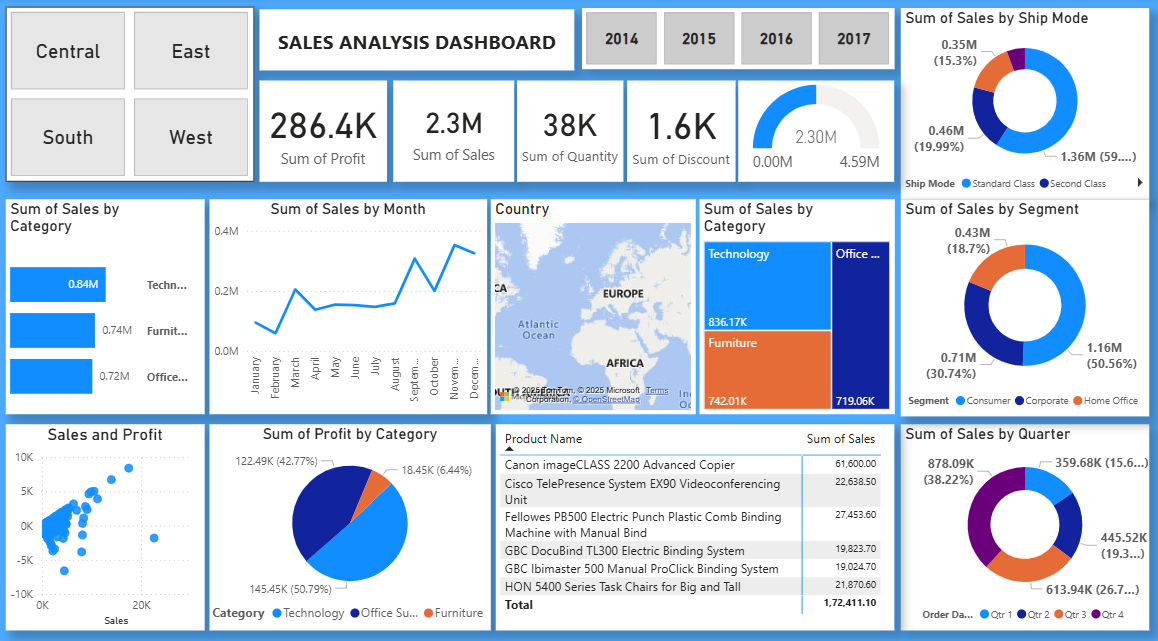

The page's visual inventory and layout, read from the dashboard file:
{"tool":"powerbi","page":{"name":"Page 1","canvas":[1280,720],"ordinal":0},"visuals":[{"type":"advancedSlicerVisual","fields":{"Values":["sample_-_superstore xls - Orders.Region"]},"box":[9.6,9.6,273.1,192.1],"z":0},{"type":"textbox","box":[288.2,12.3,345.8,67.2],"z":1000},{"type":"advancedSlicerVisual","fields":{"Values":["sample_-_superstore xls - Orders.Order Date.Variation.Date Hierarchy.Year"]},"box":[642.2,11,343.1,67.2],"z":2000},{"type":"donutChart","fields":{"Category":["sample_-_superstore xls - Orders.Ship Mode"],"Y":["Sum(sample_-_superstore xls - Orders.Sales)"]},"box":[992.1,11,273.1,209.9],"z":3000},{"type":"barChart","fields":{"Y":["Sum(sample_-_superstore xls - Orders.Sales)"],"Category":["sample_-_superstore xls - Orders.Category"]},"box":[9.6,220.9,218.2,236],"z":4000},{"type":"scatterChart","fields":{"X":["sample_-_superstore xls - Orders.Sales"],"Y":["sample_-_superstore xls - Orders.Profit"]},"box":[9.6,467.9,218.2,226.4],"z":5000},{"type":"card","fields":{"Values":["Sum(sample_-_superstore xls - Orders.Profit)"]},"box":[288.2,90.6,140,111.1],"z":6000},{"type":"card","fields":{"Values":["Sum(sample_-_superstore xls - Orders.Sales)"]},"box":[435,90.6,133.1,111.1],"z":7000},{"type":"card","fields":{"Values":["Sum(sample_-_superstore xls - Orders.Quantity)"]},"box":[570.8,90.6,116.6,111.1],"z":8000},{"type":"card","fields":{"Values":["Sum(sample_-_superstore xls - Orders.Discount)"]},"box":[691.6,90.6,119.4,111.1],"z":9000},{"type":"gauge","fields":{"Y":["Sum(sample_-_superstore xls - Orders.Sales)"]},"box":[813.7,90.6,171.5,111.1],"z":10000},{"type":"lineChart","fields":{"Y":["Sum(sample_-_superstore xls - Orders.Sales)"],"Category":["sample_-_superstore xls - Orders.Order Date.Variation.Date Hierarchy.Month"]},"box":[233.3,220.9,304.6,236],"z":11000},{"type":"pieChart","fields":{"Category":["sample_-_superstore xls - Orders.Category"],"Y":["Sum(sample_-_superstore xls - Orders.Profit)"]},"box":[233.3,467.9,308.7,226.4],"z":12000},{"type":"donutChart","fields":{"Category":["sample_-_superstore xls - Orders.Order Date.Variation.Date Hierarchy.Quarter"],"Y":["Sum(sample_-_superstore xls - Orders.Sales)"]},"box":[992.1,467.9,273.1,226.4],"z":13000},{"type":"donutChart","fields":{"Y":["Sum(sample_-_superstore xls - Orders.Sales)"],"Category":["sample_-_superstore xls - Orders.Segment"]},"box":[992.1,220.9,273.1,238.8],"z":14000},{"type":"treemap","fields":{"Values":["Sum(sample_-_superstore xls - Orders.Sales)"],"Group":["sample_-_superstore xls - Orders.Category"]},"box":[771.2,220.9,214.1,236],"z":15000},{"type":"map","fields":{"Category":["sample_-_superstore xls - Orders.Country"]},"box":[542,220.9,225,236],"z":16000},{"type":"pivotTable","fields":{"Values":["Sum(sample_-_superstore xls - Orders.Sales)"],"Rows":["sample_-_superstore xls - Orders.Product Name"]},"box":[547.5,467.9,437.7,226.4],"z":17000}]}

Visuals, with their boxes in screenshot pixels (x1, y1, x2, y2), scaled from the page's 1280x720 canvas onto the 1158x641 screenshot:
advancedSlicerVisual - sample_-_superstore xls - Orders.Region: box=[9, 9, 256, 180]
textbox: box=[261, 11, 574, 71]
advancedSlicerVisual - sample_-_superstore xls - Orders.Order Date.Variation.Date Hierarchy.Year: box=[581, 10, 891, 70]
donutChart - sample_-_superstore xls - Orders.Ship Mode x Sum(sample_-_superstore xls - Orders.Sales): box=[898, 10, 1145, 197]
barChart - Sum(sample_-_superstore xls - Orders.Sales) x sample_-_superstore xls - Orders.Category: box=[9, 197, 206, 407]
scatterChart - sample_-_superstore xls - Orders.Sales x sample_-_superstore xls - Orders.Profit: box=[9, 417, 206, 618]
card - Sum(sample_-_superstore xls - Orders.Profit): box=[261, 81, 387, 180]
card - Sum(sample_-_superstore xls - Orders.Sales): box=[394, 81, 514, 180]
card - Sum(sample_-_superstore xls - Orders.Quantity): box=[516, 81, 622, 180]
card - Sum(sample_-_superstore xls - Orders.Discount): box=[626, 81, 734, 180]
gauge - Sum(sample_-_superstore xls - Orders.Sales): box=[736, 81, 891, 180]
lineChart - Sum(sample_-_superstore xls - Orders.Sales) x sample_-_superstore xls - Orders.Order Date.Variation.Date Hierarchy.Month: box=[211, 197, 487, 407]
pieChart - sample_-_superstore xls - Orders.Category x Sum(sample_-_superstore xls - Orders.Profit): box=[211, 417, 490, 618]
donutChart - sample_-_superstore xls - Orders.Order Date.Variation.Date Hierarchy.Quarter x Sum(sample_-_superstore xls - Orders.Sales): box=[898, 417, 1145, 618]
donutChart - Sum(sample_-_superstore xls - Orders.Sales) x sample_-_superstore xls - Orders.Segment: box=[898, 197, 1145, 409]
treemap - Sum(sample_-_superstore xls - Orders.Sales) x sample_-_superstore xls - Orders.Category: box=[698, 197, 891, 407]
map - sample_-_superstore xls - Orders.Country: box=[490, 197, 694, 407]
pivotTable - Sum(sample_-_superstore xls - Orders.Sales) x sample_-_superstore xls - Orders.Product Name: box=[495, 417, 891, 618]
